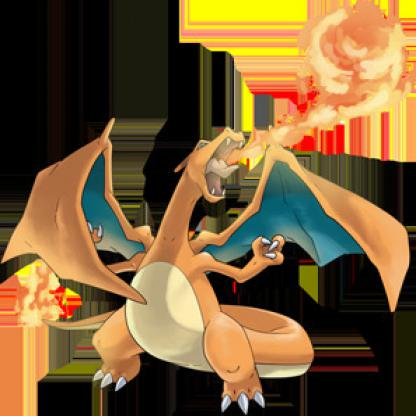Charizard: (1, 122, 416, 416)
